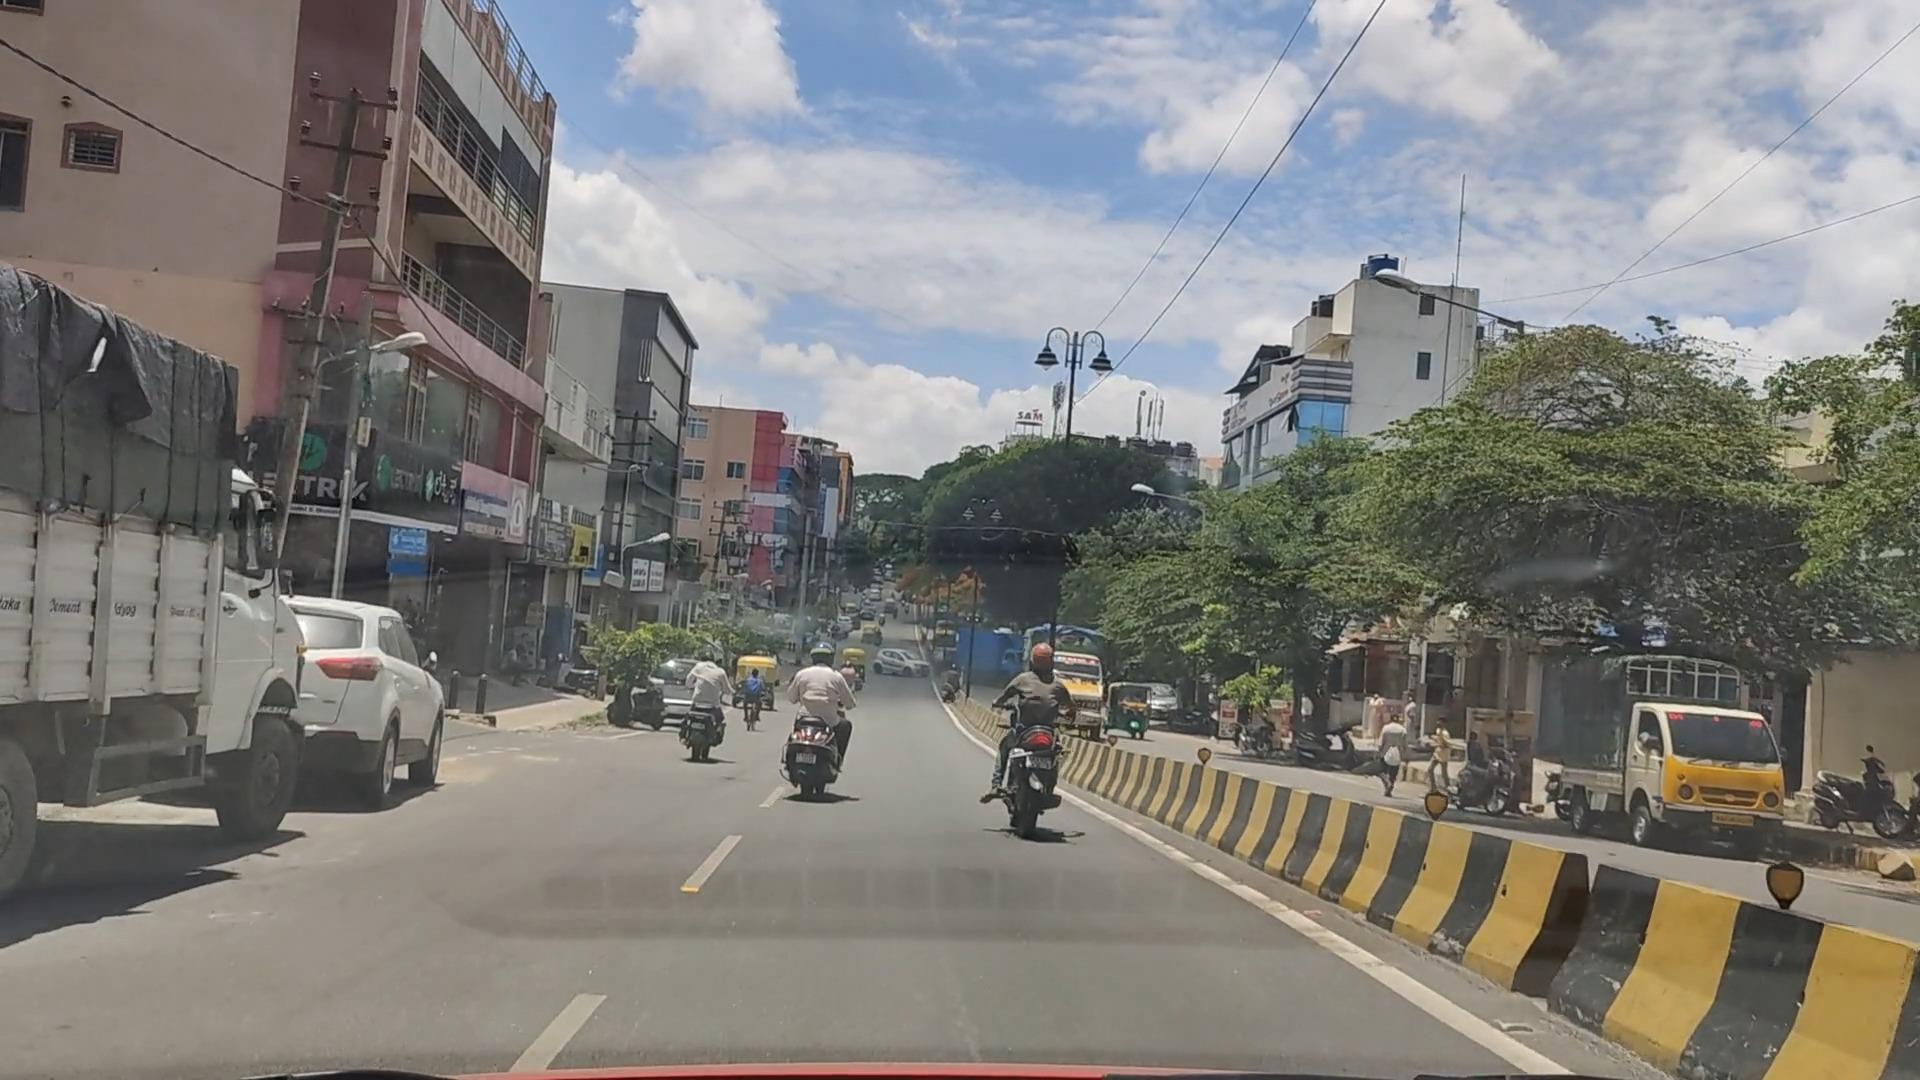HMV: (1, 260, 327, 870)
LMV: (980, 633, 1083, 864), (748, 638, 863, 830)
